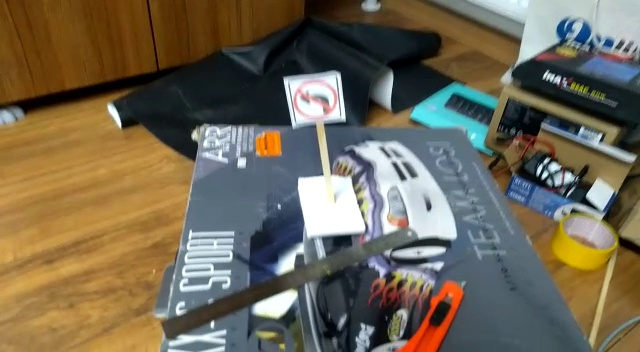sola_donulmez: (291, 77, 337, 124)
